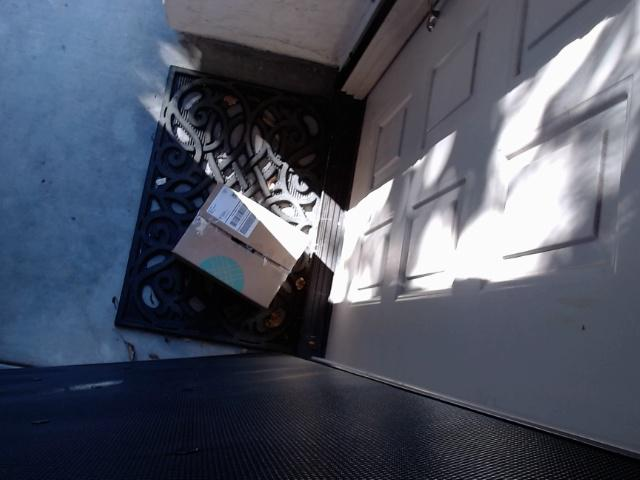box: (173, 182, 311, 308)
